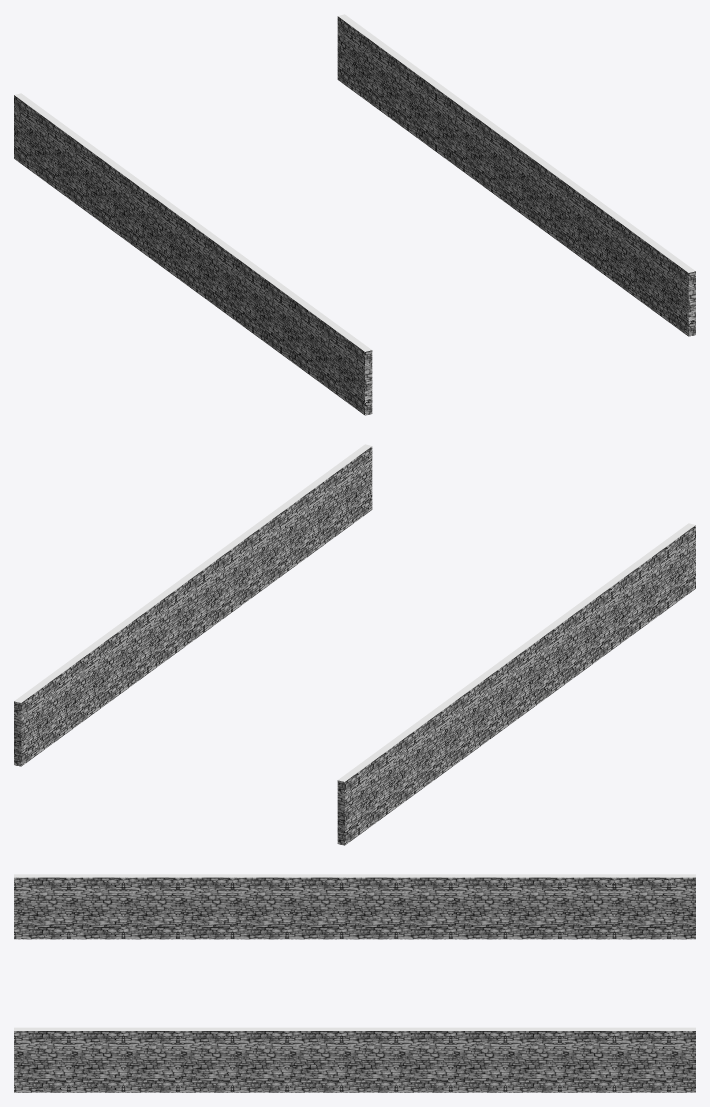
File: FenceBig.obj
3 views of the same model, one above another, from view 1: azimuth 30°, elevation 25°; view 2: azimuth 150°, elevation 25°; view 3: azimuth 270°, elevation 25° (orthographic). The views are drawn at different scales.
Visible parts, largest first — view 1: Mesh1 Model, Mesh2 Model; view 2: Mesh1 Model, Mesh2 Model; view 3: Mesh1 Model, Mesh2 Model.
Part boxes in pixels (left/top/right/bottom): Mesh1 Model: left=14, top=93, right=372, bottom=415; Mesh2 Model: left=337, top=14, right=695, bottom=336; Mesh1 Model: left=337, top=523, right=695, bottom=845; Mesh2 Model: left=14, top=444, right=372, bottom=766; Mesh1 Model: left=14, top=874, right=695, bottom=939; Mesh2 Model: left=14, top=1027, right=695, bottom=1092.
Bounding box in the file's own units: 136 × 25 × 250.
Materials: 3 (2 with a texture image).
